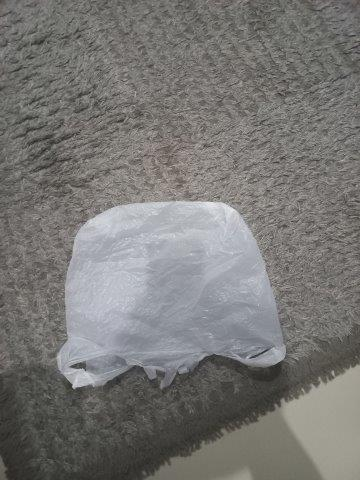plastik: (54, 201, 288, 391)
